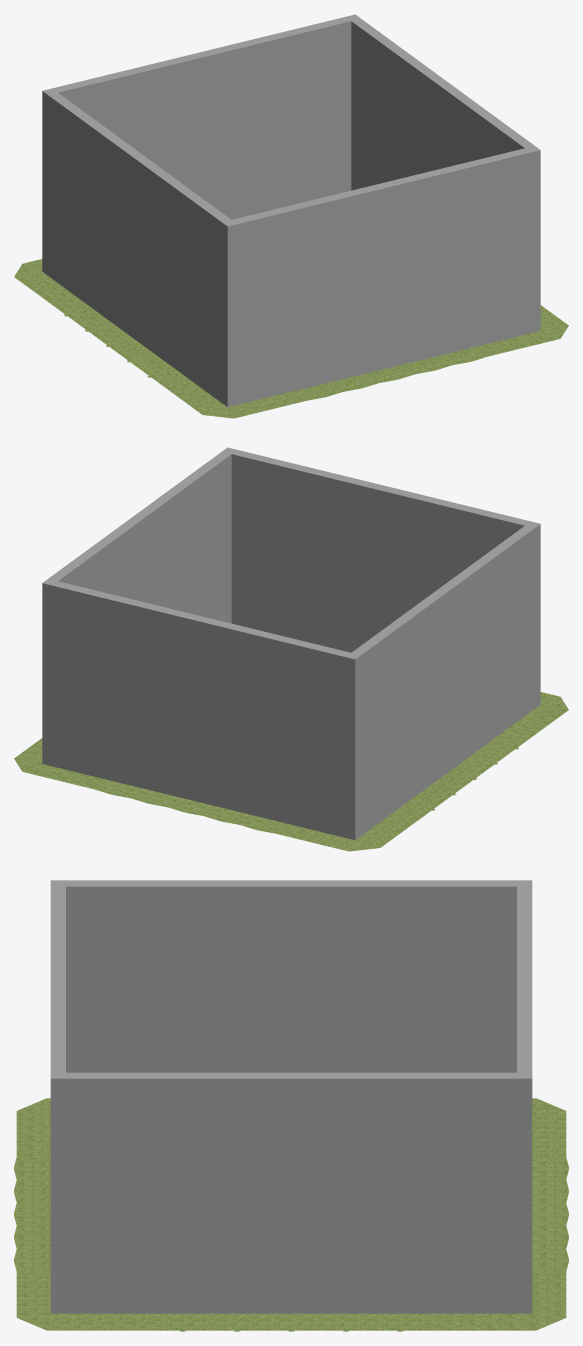
The model's file is map50Field1_Mini_Mini.ver3.fbx.
3 views of the same model, one above another, from view 1: azimuth 30°, elevation 25°; view 2: azimuth 150°, elevation 25°; view 3: azimuth 270°, elevation 25° (orthographic). The views are drawn at different scales.
Parts seen in each view (by area): view 1: pCube1, map50F_Layer1; view 2: pCube1, map50F_Layer1; view 3: pCube1, map50F_Layer1.
Boxes of the visible parts, <box> form: pCube1: <box>42,14,540,407</box>; map50F_Layer1: <box>14,259,568,418</box>; pCube1: <box>42,447,540,840</box>; map50F_Layer1: <box>14,692,568,851</box>; pCube1: <box>50,880,532,1313</box>; map50F_Layer1: <box>14,1098,568,1331</box>.
Bounding box in the file's own units: 23.57 × 11 × 23.57.
2 materials, 1 textured.
